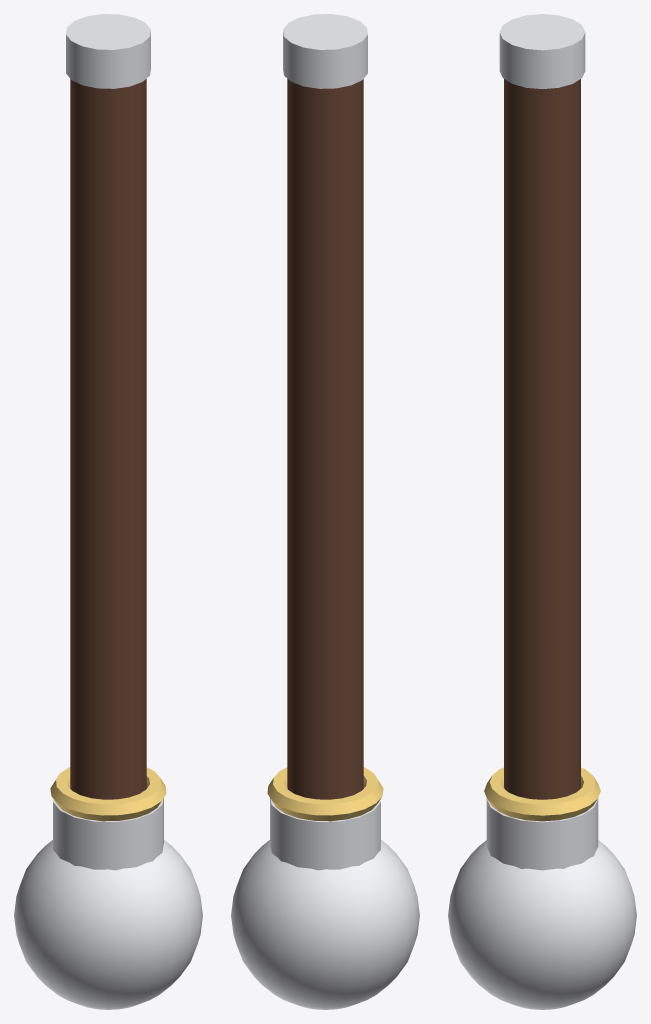
The model's file is wolf_cane.glb.
The picture shows the model from 3 angles, left to right: view 1: azimuth 30°, elevation 25°; view 2: azimuth 150°, elevation 25°; view 3: azimuth 270°, elevation 25°; orthographic projection.
Parts seen in each view (by area): view 1: wolf_cane; view 2: wolf_cane; view 3: wolf_cane.
Boxes of the visible parts, bbox=[...] form: wolf_cane: bbox=[14, 14, 202, 1009]; wolf_cane: bbox=[231, 14, 419, 1009]; wolf_cane: bbox=[448, 14, 636, 1009].
Bounding box in the file's own units: 0.22 × 1.25 × 0.22.
